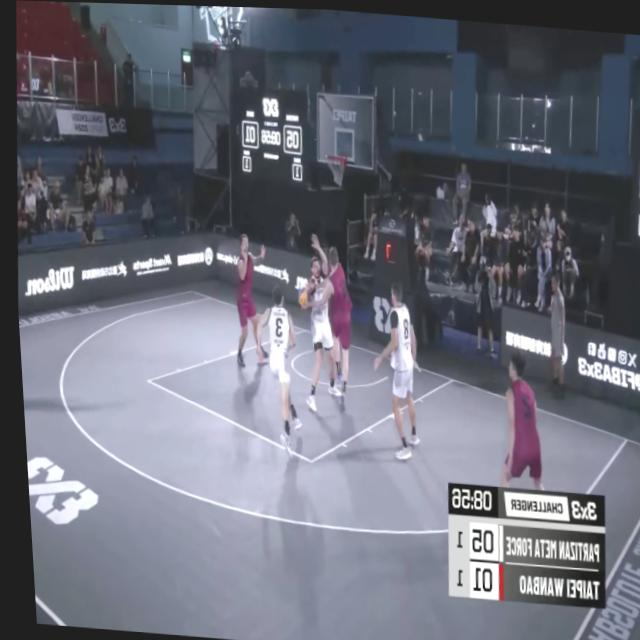ball: (292, 283, 309, 307)
hoop: (322, 145, 346, 188)
player: (478, 343, 554, 527), (363, 276, 426, 464), (291, 226, 347, 427), (243, 283, 304, 456), (308, 236, 355, 399), (226, 233, 270, 369)
